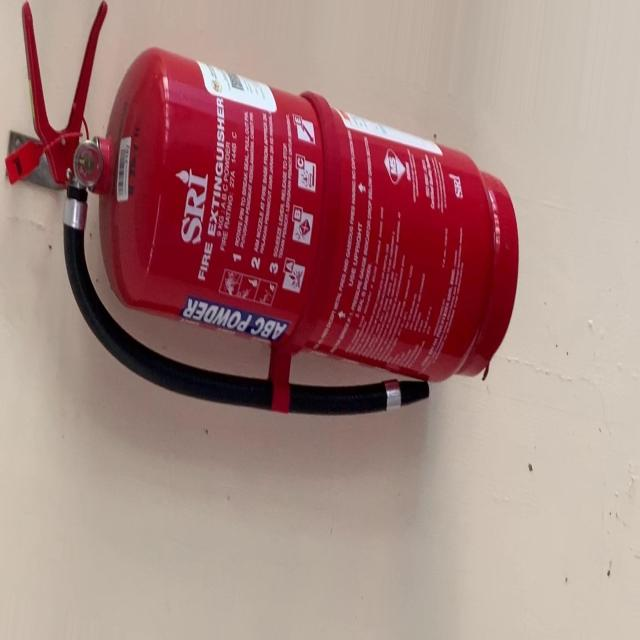fire_extinguisher: (0, 0, 522, 420)
